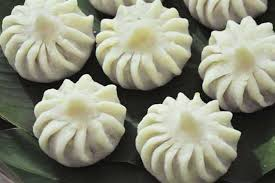modak: (133, 87, 242, 182), (35, 77, 131, 168), (92, 3, 196, 84), (199, 15, 275, 118), (3, 1, 97, 82)
